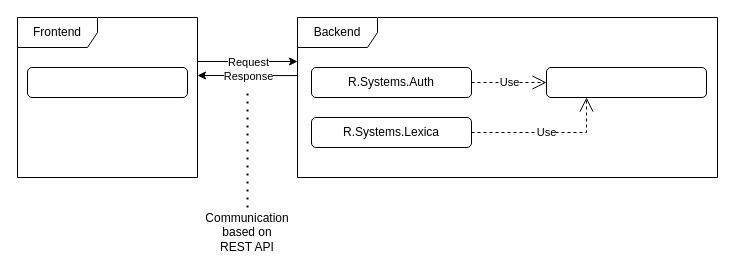
The diagram is 735 pixels wide and 271 high, and some of its shapes have lost their labels. The shapes that lost their labels are listed below. From the top down, each one's box as (x1, y1, x2, y2) in pixels, then its label:
(26, 66, 188, 98): R.Systems.WebFrontend
(546, 66, 706, 98): R.Systems.Shared
